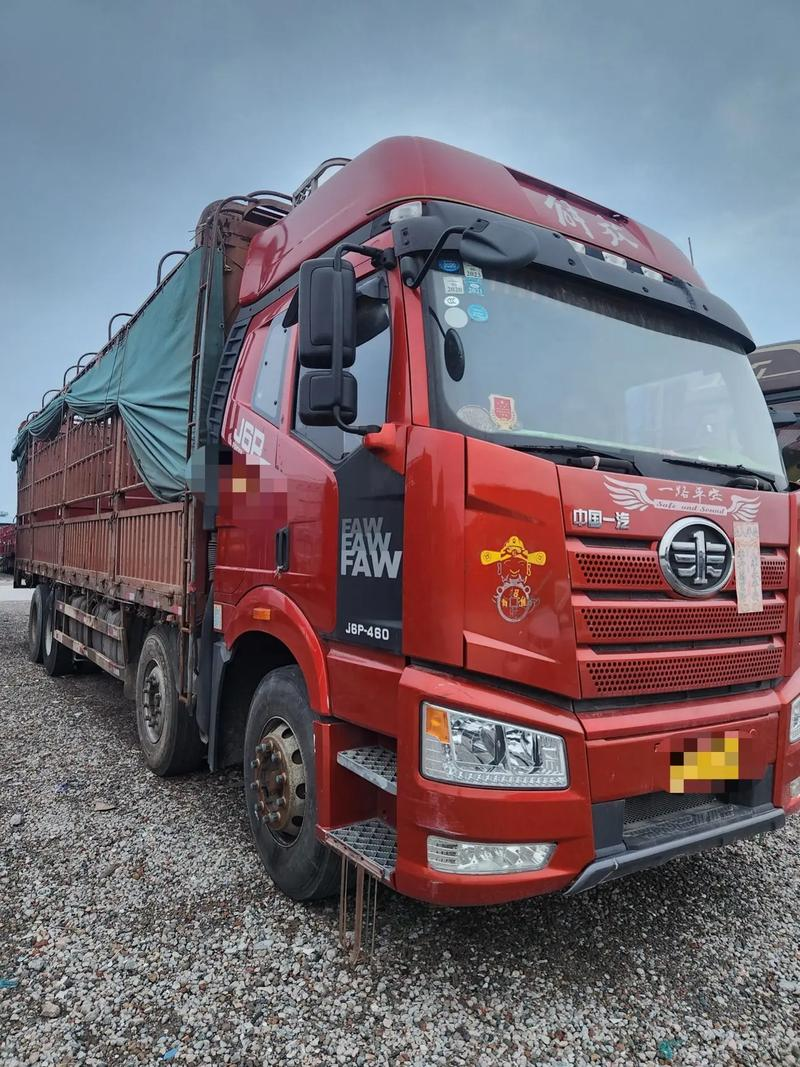卡车: (10, 132, 800, 954)
